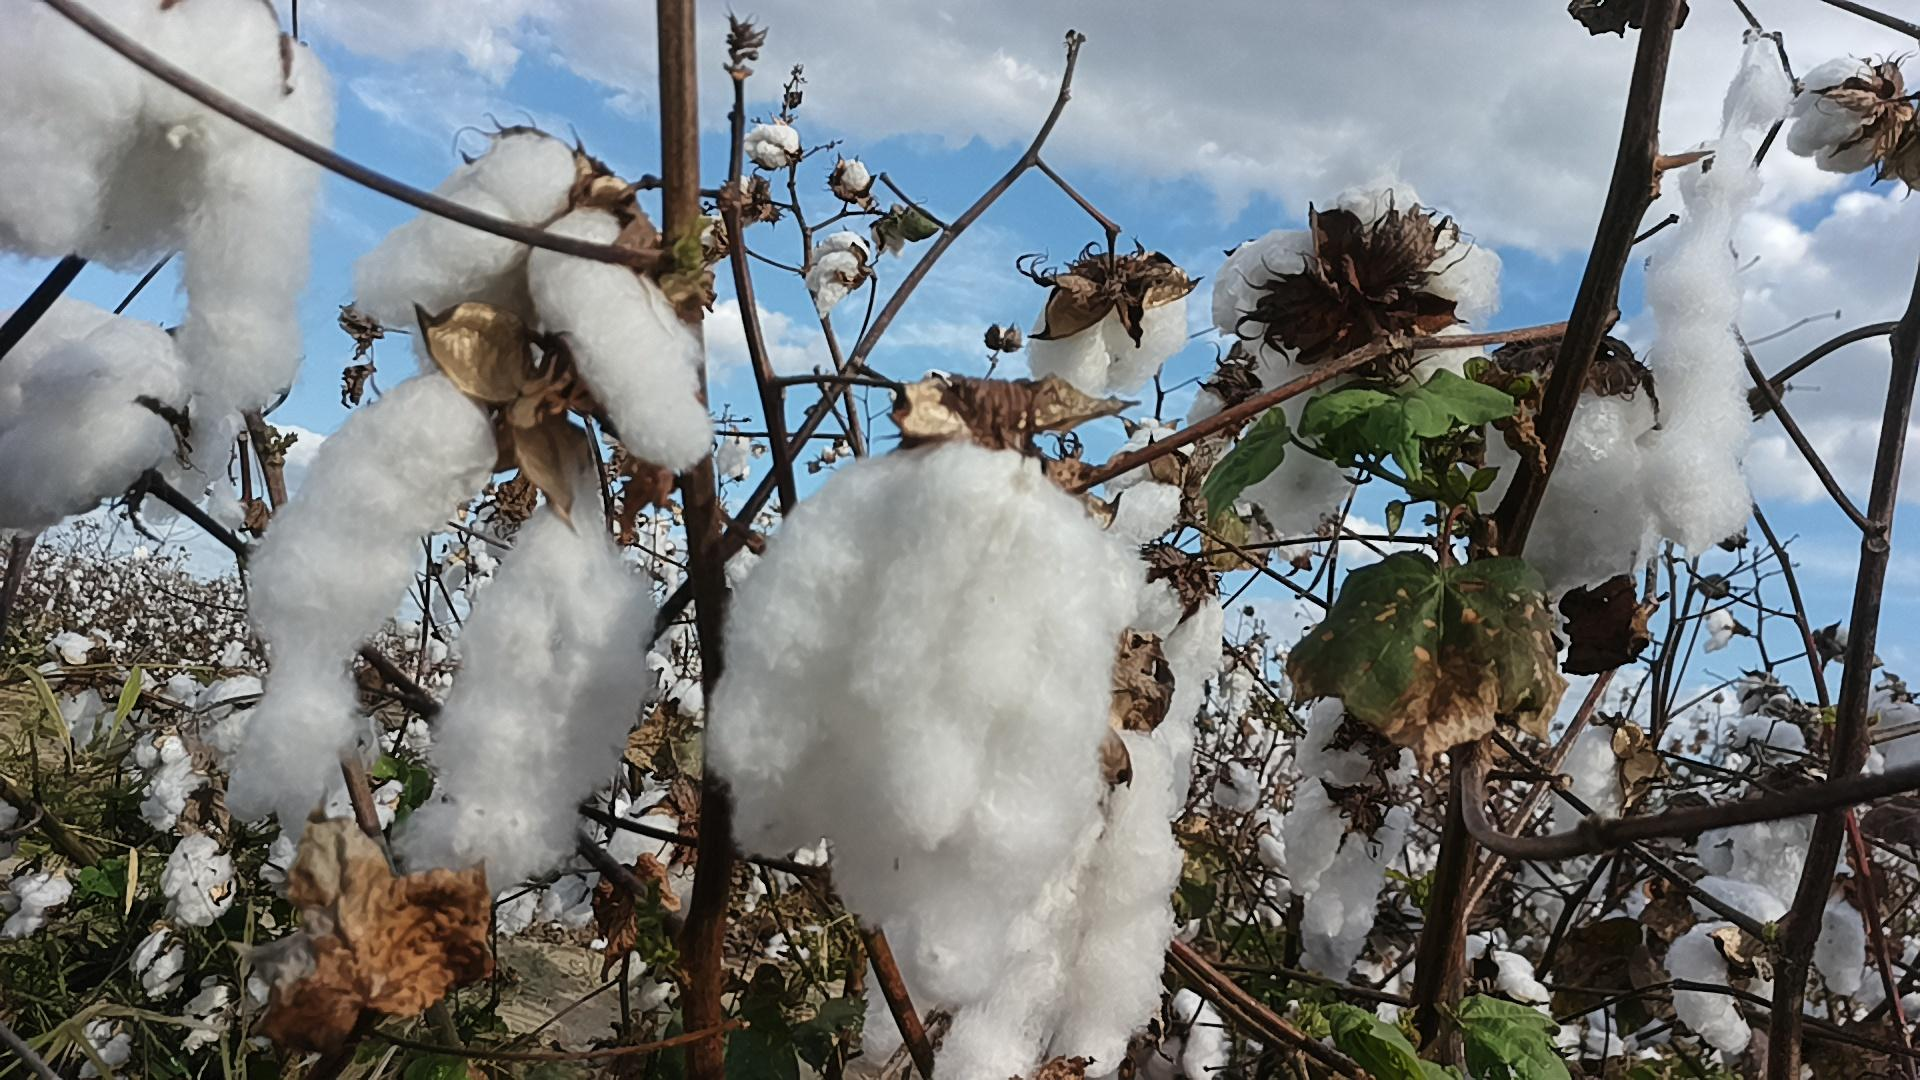cotton_ready: (709, 438, 1133, 998), (0, 0, 334, 485), (224, 365, 505, 829), (866, 720, 1178, 1080), (400, 485, 666, 882), (1639, 36, 1797, 560), (1209, 183, 1498, 447), (527, 207, 716, 471), (1465, 368, 1660, 597), (348, 136, 574, 330), (0, 303, 189, 525), (1026, 258, 1193, 397), (1288, 787, 1407, 982), (1110, 421, 1247, 563), (1120, 546, 1225, 731), (1217, 407, 1358, 535), (1692, 806, 1828, 928), (1784, 55, 1898, 181), (1298, 700, 1425, 791), (1668, 931, 1751, 1059), (34, 630, 131, 738), (156, 836, 237, 932), (1548, 731, 1626, 831), (190, 675, 261, 767), (0, 856, 74, 940), (131, 737, 193, 837)
